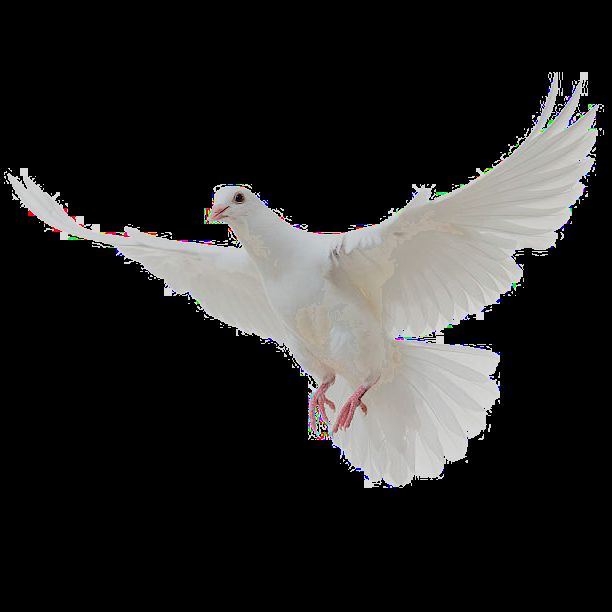Bird: (6, 64, 608, 493)
